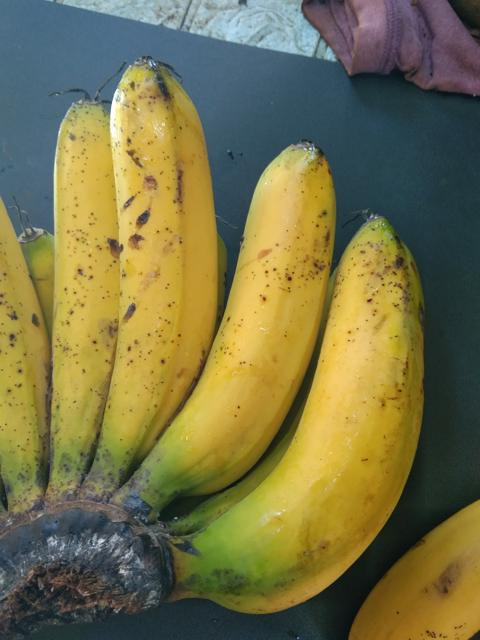ripe: (167, 205, 431, 630), (116, 126, 331, 524), (100, 46, 214, 489), (24, 80, 125, 487)
